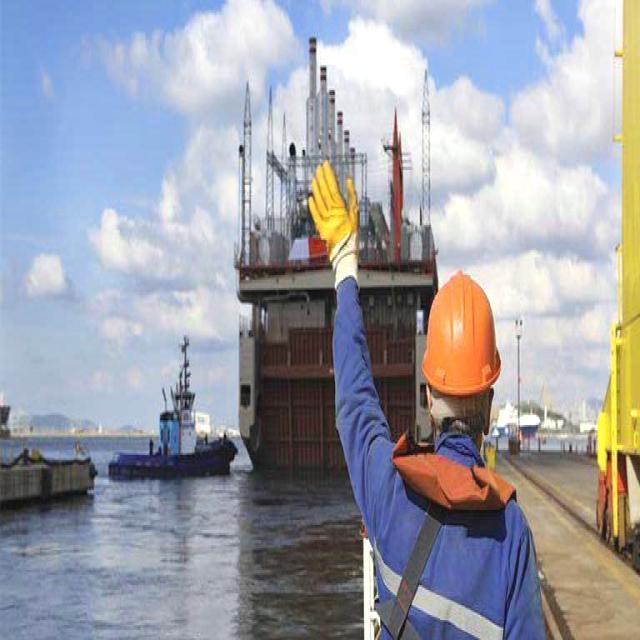hand_glove: (302, 156, 371, 302)
head_helmet: (420, 267, 502, 395)
person: (300, 158, 542, 640)
